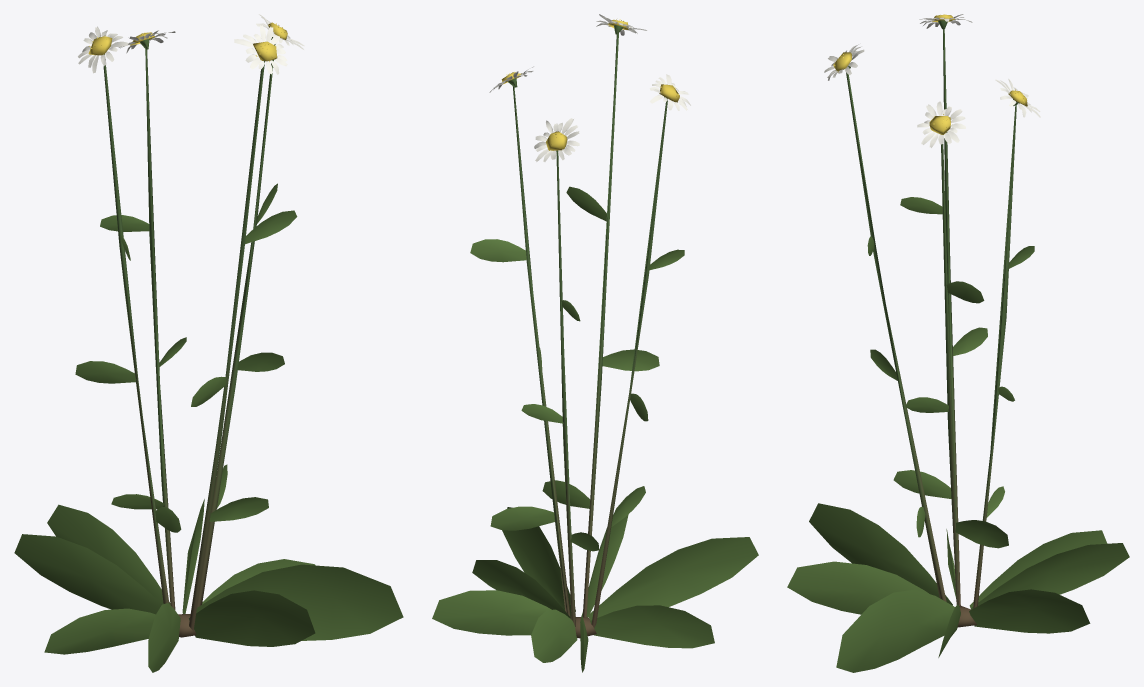
Rendered from Daisy_lod2.glb.
3 renders of one model, left to right at view 1: azimuth 30°, elevation 25°; view 2: azimuth 150°, elevation 25°; view 3: azimuth 270°, elevation 25°, orthographic. The views are drawn at different scales.
Parts seen in each view (by area): view 1: Plant_LOD2; view 2: Plant_LOD2; view 3: Plant_LOD2.
Part boxes in pixels (<box>): Plant_LOD2: <box>14,14,403,672</box>; Plant_LOD2: <box>432,14,758,672</box>; Plant_LOD2: <box>787,14,1129,672</box>.
Size of the model in its own units: 0.329 by 0.6787 by 0.3581.
